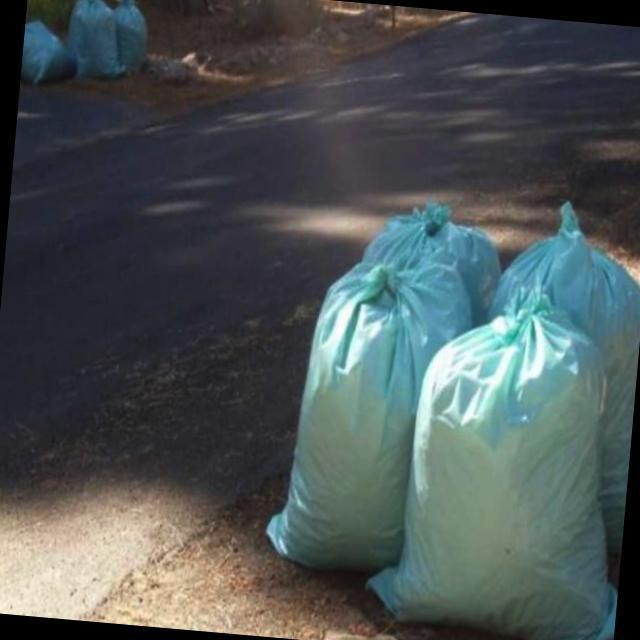garbage: (265, 168, 640, 640), (20, 0, 196, 92)
